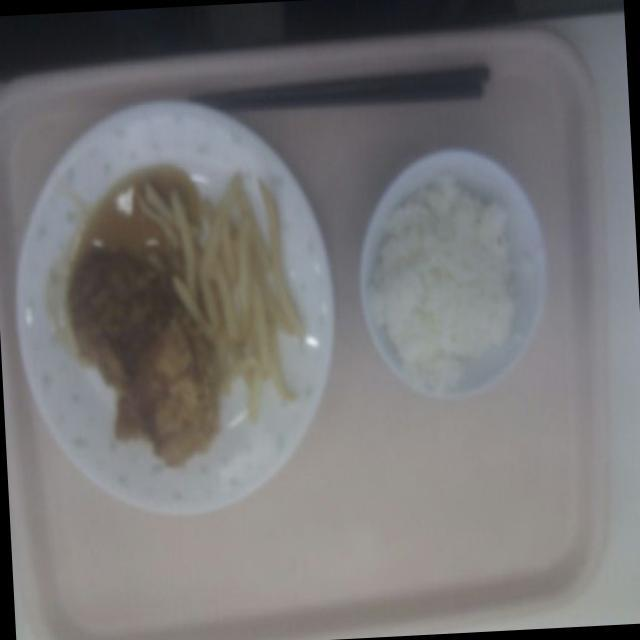Rice: (374, 158, 534, 378)
